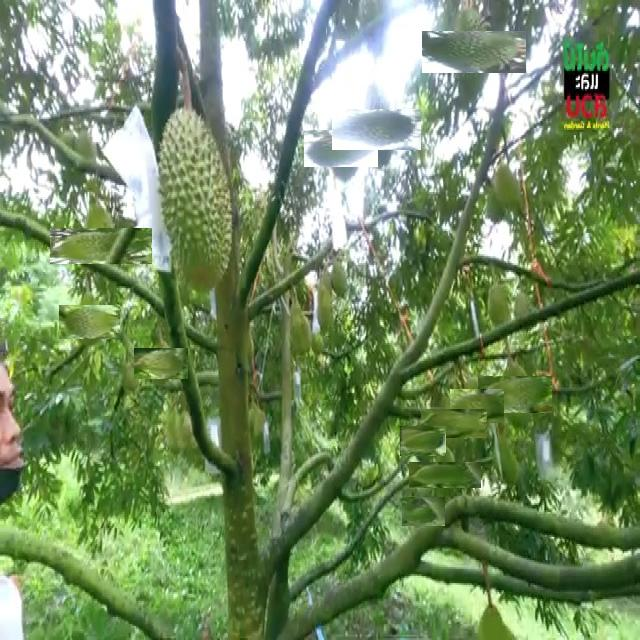durian: (157, 104, 235, 296), (437, 15, 510, 89), (66, 212, 136, 281), (344, 97, 409, 163), (313, 120, 369, 176), (487, 367, 544, 422), (420, 451, 470, 500), (430, 399, 478, 447), (66, 298, 113, 345), (455, 384, 499, 429), (140, 342, 183, 385), (492, 159, 522, 214), (404, 422, 442, 461), (487, 282, 515, 333), (405, 494, 442, 530), (514, 290, 539, 334)
